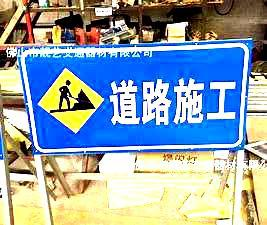sign: (26, 45, 250, 149)
